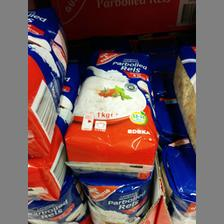Reis: (64, 50, 158, 178), (27, 6, 65, 154), (77, 174, 155, 222)
